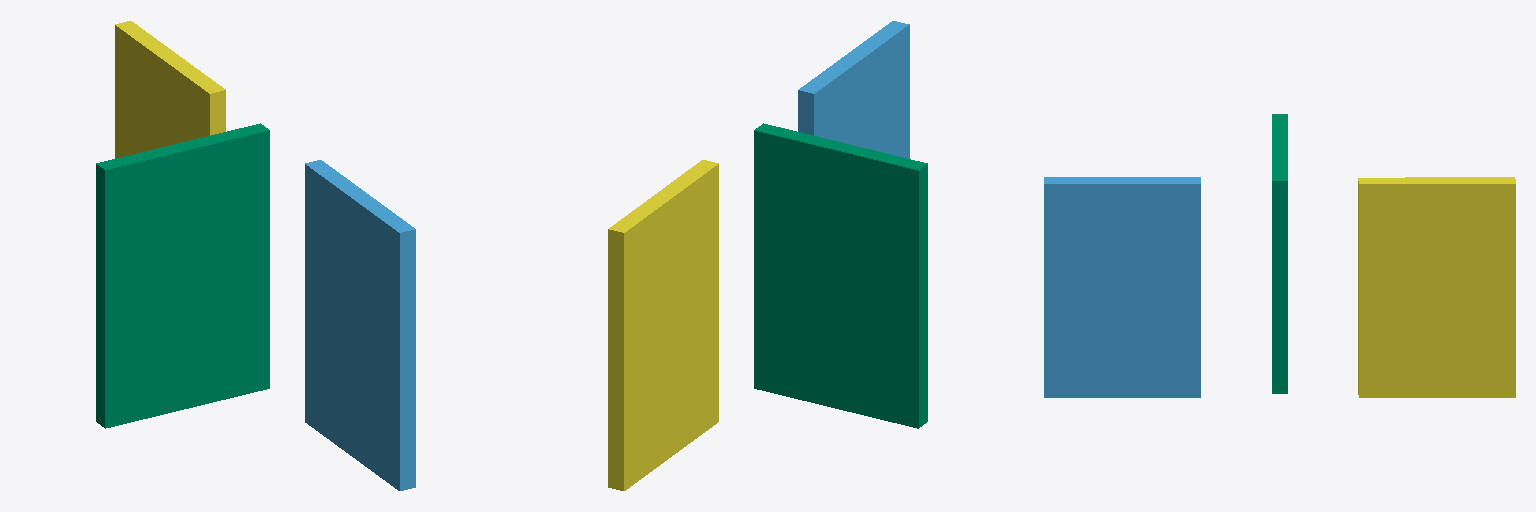
robot.urdf — objects3:
<?xml version="1.0"?>
    <robot name="objects3">

    
      <link name="base_link1">
        <origin xyz="0.4 0.25 0.3"/>
        </link>



    <link name="door1">
        <visual>
         <geometry>
             <box size="0.02 0.2 0.3"/>
         </geometry>   
         <origin rpy="0.0 0.0 0.0" xyz="0.0 0.1 0.0"/>  
        </visual>
    </link>


    <link name="door2">
        <visual>
         <geometry>
             <box size="0.02 0.2 0.3"/>
         </geometry>   
         <origin rpy="0.0 0.0 0.0" xyz="0.0 0.1 0.0"/>  
        </visual>
    </link>


    <link name="door3">
        <visual>
         <geometry>
             <box size="0.02 0.2 0.3"/>
         </geometry>   
         <origin rpy="0.0 0.0 0.0" xyz="0.0 0.1 0.0"/>  
        </visual>
    </link>


    <joint name="base_to_door1" type="revolute">
        <parent link="base_link1"/>
        <child link="door1"/>
        <origin rpy="0 0 0" xyz="0.55 -0.3 0.2"/>
        <axis xyz="0.0 0.0 1"/>
        <limit lower="-3.17" upper="0.43" effort="0.05" velocity="1.57"/>
    </joint>

    <joint name="base_to_door2" type="revolute">
        <parent link="base_link1"/>
        <child link="door2"/>
        <origin rpy="0 0 1.57" xyz="0.55 0.0 0.2"/>
        <axis xyz="0.0 0.0 1"/>
        <limit lower="0.0" upper="3.28" effort="0.05" velocity="1.57"/>
    </joint>

    <joint name="base_to_door3" type="revolute">
        <parent link="base_link1"/>
        <child link="door3"/>
        <origin rpy ="0 0 -3.14" xyz="0.55 0.3 0.2"/>
        <axis xyz="0.0 0.0 1"/>
        <limit lower="-4.17" upper="0.43" effort="0.05" velocity="1.57"/>
    </joint>



    </robot>

--- Render facts (derived) ---
Views: 3 orthographic renders of the robot side by side, from view 1: azimuth 30°, elevation 25°; view 2: azimuth 150°, elevation 25°; view 3: azimuth 270°, elevation 25°.
Robot: objects3 — 4 links, 3 joints (3 revolute); root link base_link1; default pose: all joints at 0.
Visible links, largest first — view 1: door2, door1, door3; view 2: door2, door3, door1; view 3: door3, door1, door2.
Link boxes in pixels (x1,y1,x2,y2): door2: (96, 123, 269, 428); door1: (305, 160, 415, 490); door3: (115, 21, 225, 158); door2: (754, 123, 927, 428); door3: (608, 160, 718, 490); door1: (798, 21, 909, 158); door3: (1358, 177, 1515, 397); door1: (1044, 177, 1200, 397); door2: (1272, 114, 1287, 393).
Bounding box of the posed robot: 0.2103 × 0.6 × 0.3 m (x, y, z).
Geometry: primitives only (box / cylinder / sphere), no mesh files.